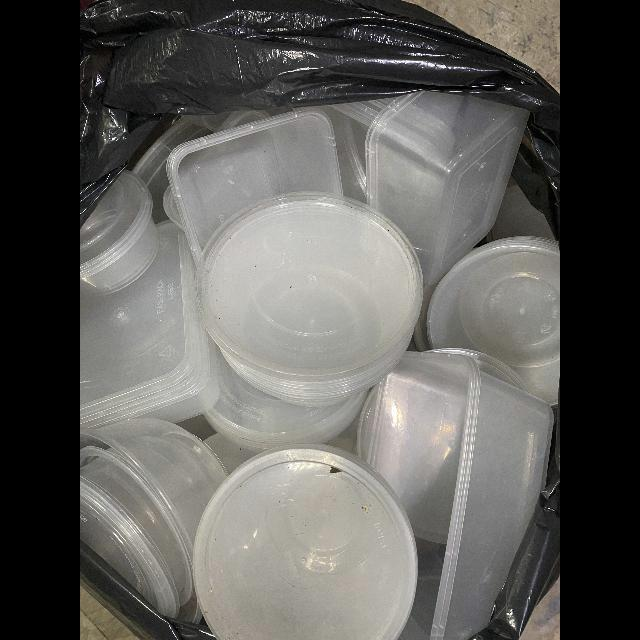plastic_container: (353, 351, 556, 640), (200, 196, 424, 407), (193, 449, 418, 640), (364, 92, 530, 296), (80, 418, 229, 634), (80, 223, 220, 429), (166, 110, 344, 262), (425, 237, 560, 407), (204, 360, 369, 453), (80, 171, 161, 297)
